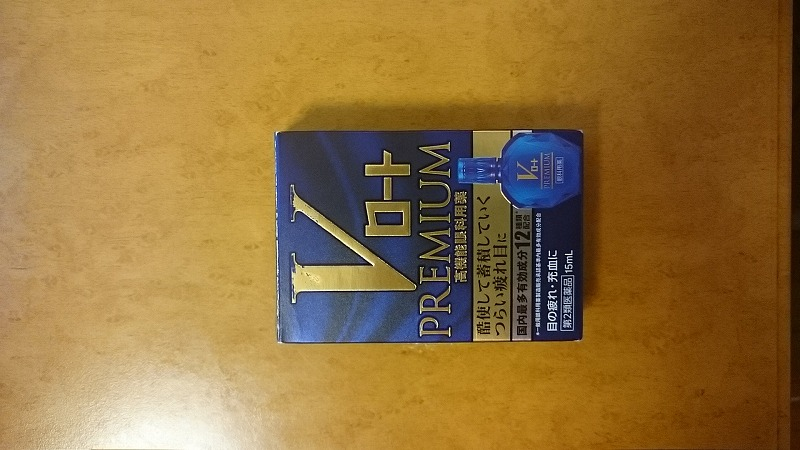D: (269, 125, 590, 345)
